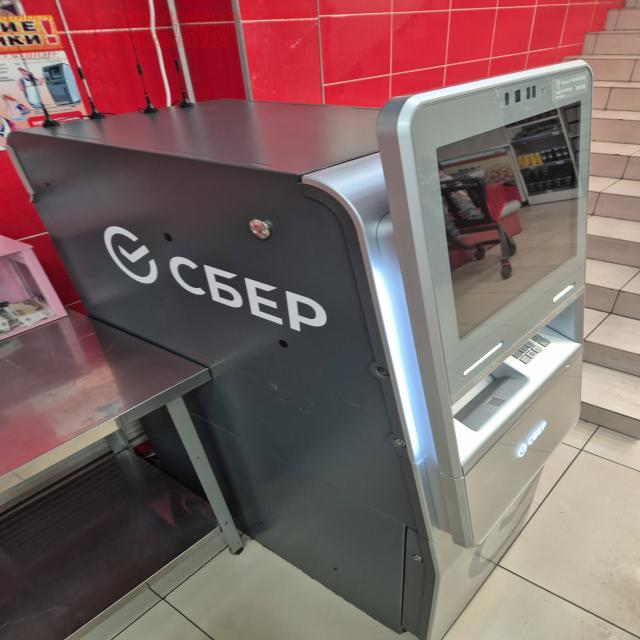bank: (21, 69, 610, 640)
